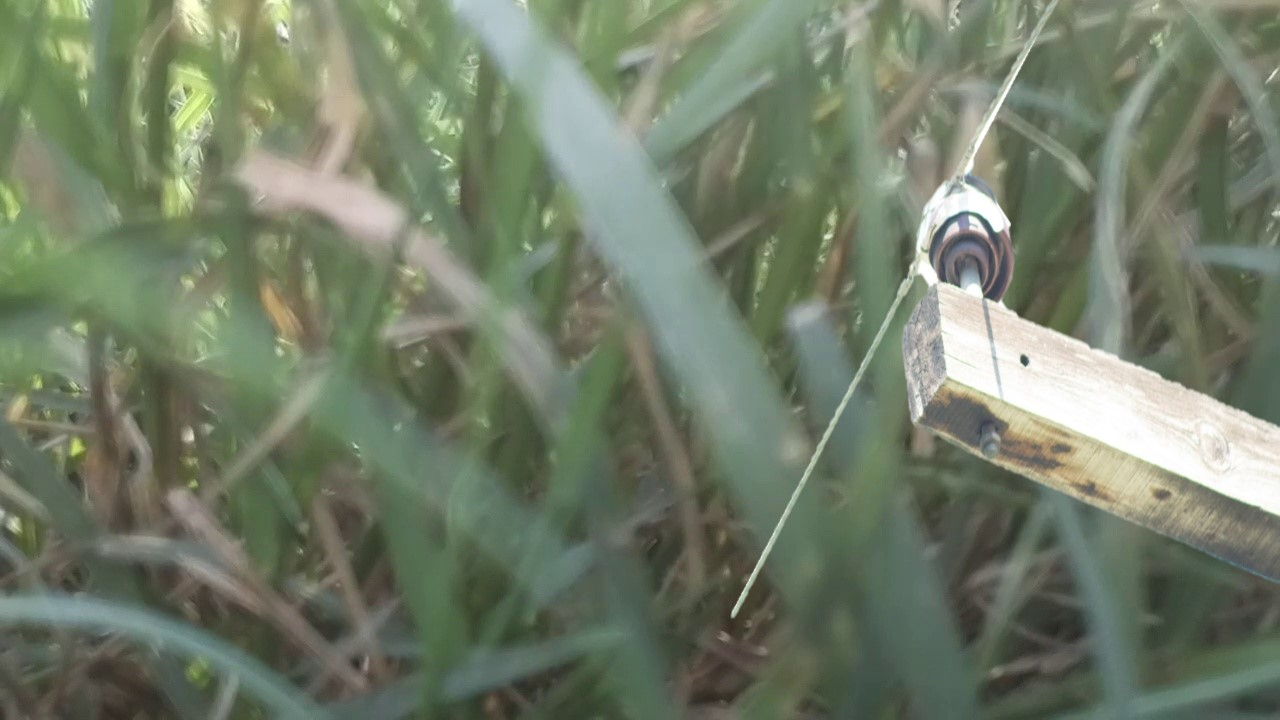defect_pin: (911, 171, 1021, 302)
